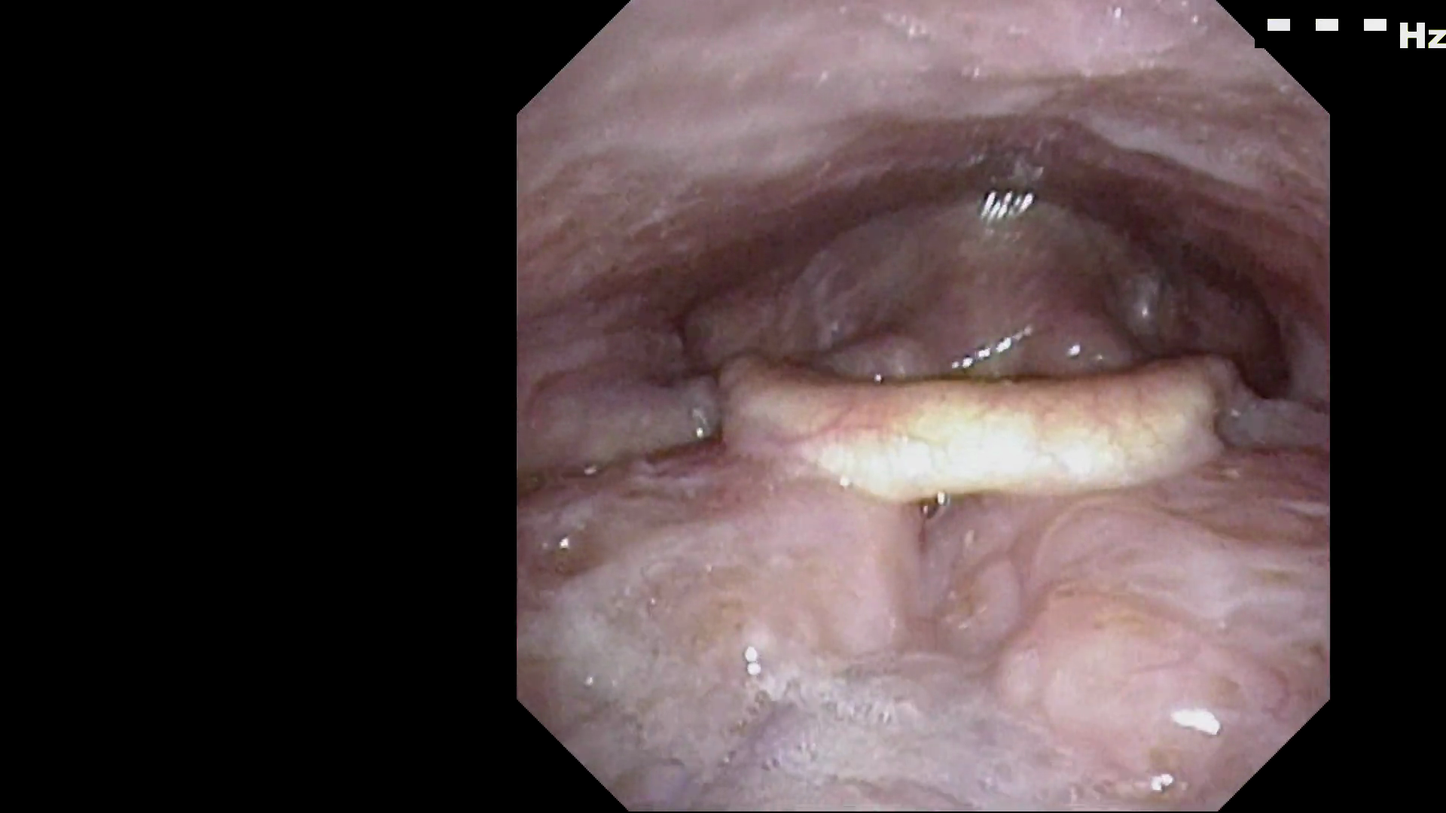epiglottis: (706, 334, 1279, 587)
trachea: (939, 350, 1057, 473)
